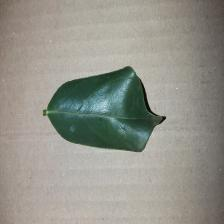healthy: (46, 65, 165, 155)
